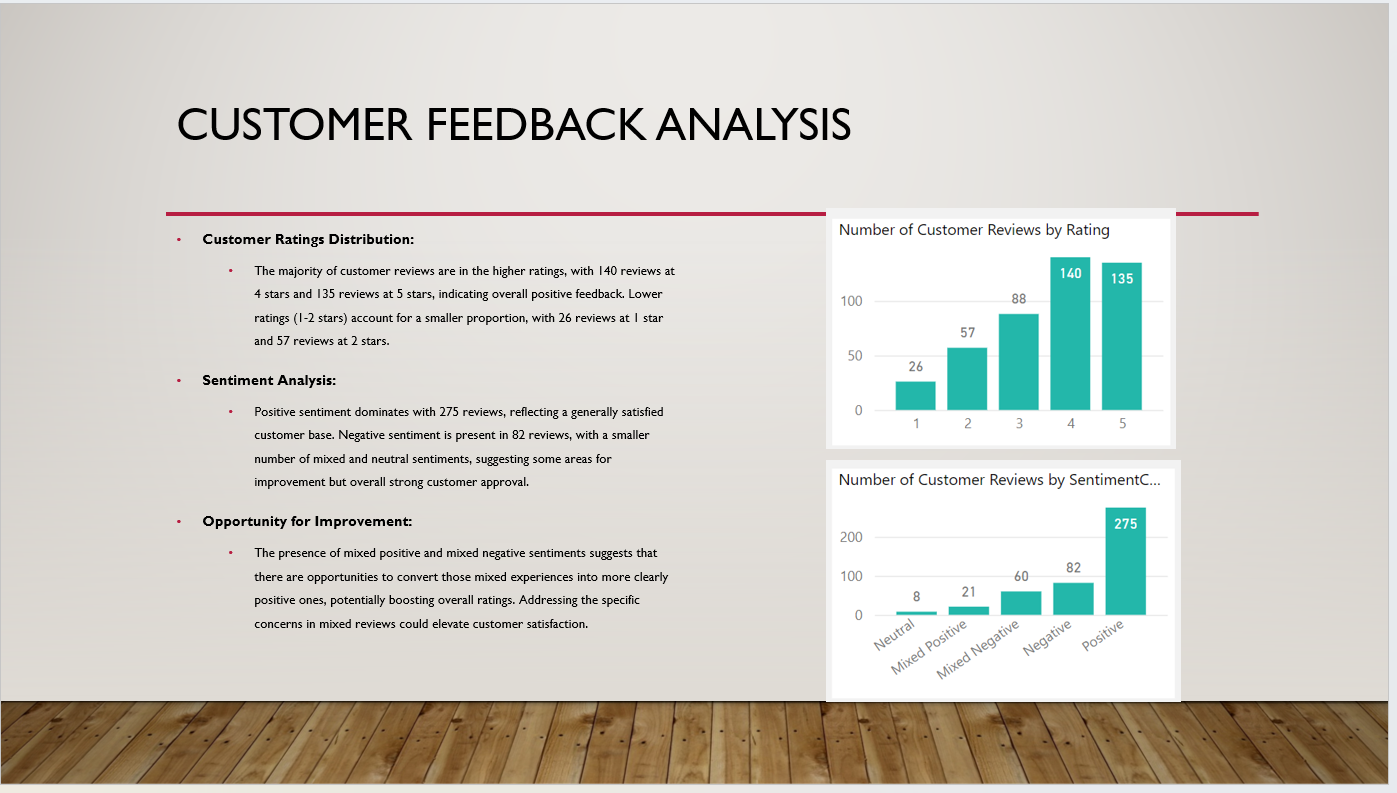

Layout of this report page (visuals, bound fields, positions):
{"tool":"powerbi","page":{"name":"Customer Review Details","canvas":[1280,720],"ordinal":3},"visuals":[{"type":"textbox","box":[0,0,1280,52.6],"z":0},{"type":"slicer","fields":{"Values":["dim_products.ProductName"]},"box":[0,244.2,159.3,475.3],"z":1000},{"type":"card","fields":{"Values":["_Calculations.Rating (Average)"]},"box":[168.5,61.9,123.8,178.5],"z":2000},{"type":"slicer","fields":{"Values":["Calendar.MonthNameShort"]},"box":[536.8,4.1,743.2,44.4],"z":3000},{"type":"lineChart","fields":{"Category":["Calendar.MonthNameShort"],"Y":["_Calculations.Rating (Average)"],"Series":["fact_customer_reviews_with_sentiment.SentimentCategory"]},"box":[846.2,62,434.1,178.4],"z":4000},{"type":"slicer","fields":{"Values":["Calendar.Year"]},"box":[324.1,4.1,208.5,44.4],"z":5000},{"type":"tableEx","fields":{"Values":["fact_customer_reviews_with_sentiment.ReviewDate","fact_customer_reviews_with_sentiment.CustomerID","fact_customer_reviews_with_sentiment.ReviewText","fact_customer_reviews_with_sentiment.SentimentCategory","fact_customer_reviews_with_sentiment.Rating"]},"box":[168.5,249.5,668.4,470.8],"z":6000},{"type":"columnChart","fields":{"Category":["fact_customer_reviews_with_sentiment.Rating"],"Y":["_Calculations.Number of Customer Reviews"]},"box":[302.4,62,262.4,178.4],"z":7000},{"type":"columnChart","fields":{"Category":["fact_customer_reviews_with_sentiment.SentimentCategory"],"Y":["_Calculations.Number of Customer Reviews"]},"box":[574.3,62,262.4,178.4],"z":8000},{"type":"slicer","fields":{"Values":["dim_customers.Country"]},"box":[0,61.4,159.3,78.3],"z":9000},{"type":"slicer","fields":{"Values":["fact_customer_reviews_with_sentiment.SentimentCategory"]},"box":[0,152.8,159.3,78.3],"z":10000},{"type":"scatterChart","fields":{"Category":["dim_customers.CustomerID"],"Series":["fact_customer_reviews_with_sentiment.SentimentCategory"],"X":["_Calculations.Rating (Average)"],"Y":["_Calculations.Number of Customer Reviews"],"Size":["_Calculations.Number of Customer Reviews"]},"box":[846,249.5,434.4,470.8],"z":11000}]}

Visuals, with their boxes in screenshot pixels (x1, y1, x2, y2), scaled from the page's 1280x720 canvas onto the 1397x793 screenshot:
textbox: BBox(0, 0, 1396, 58)
slicer - dim_products.ProductName: BBox(0, 269, 174, 792)
card - _Calculations.Rating (Average): BBox(184, 68, 319, 265)
slicer - Calendar.MonthNameShort: BBox(586, 5, 1396, 53)
lineChart - Calendar.MonthNameShort x _Calculations.Rating (Average): BBox(924, 68, 1396, 265)
slicer - Calendar.Year: BBox(354, 5, 581, 53)
tableEx - fact_customer_reviews_with_sentiment.ReviewDate x fact_customer_reviews_with_sentiment.CustomerID: BBox(184, 275, 913, 792)
columnChart - fact_customer_reviews_with_sentiment.Rating x _Calculations.Number of Customer Reviews: BBox(330, 68, 616, 265)
columnChart - fact_customer_reviews_with_sentiment.SentimentCategory x _Calculations.Number of Customer Reviews: BBox(627, 68, 913, 265)
slicer - dim_customers.Country: BBox(0, 68, 174, 154)
slicer - fact_customer_reviews_with_sentiment.SentimentCategory: BBox(0, 168, 174, 255)
scatterChart - dim_customers.CustomerID x fact_customer_reviews_with_sentiment.SentimentCategory: BBox(923, 275, 1396, 792)
